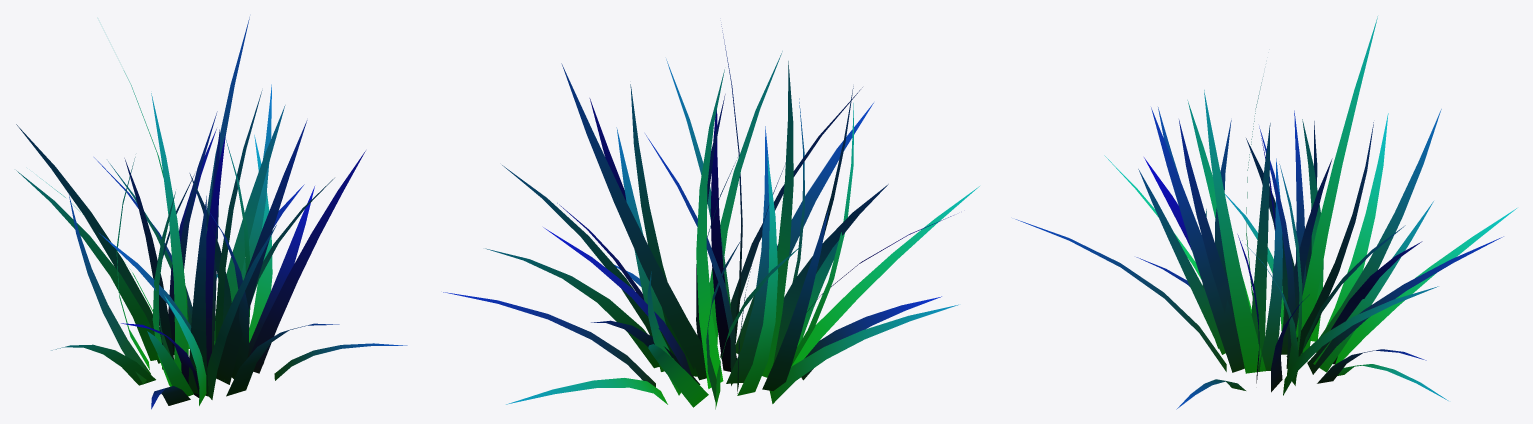
File: Grass_Clump_Tall.fbx
3 views of the same model, side by side, from view 1: azimuth 30°, elevation 25°; view 2: azimuth 150°, elevation 25°; view 3: azimuth 270°, elevation 25° (orthographic). The views are drawn at different scales.
Visible parts, largest first — view 1: _exp_Grass_Clump_Tall; view 2: _exp_Grass_Clump_Tall; view 3: _exp_Grass_Clump_Tall.
Part boxes in pixels (<box>): _exp_Grass_Clump_Tall: <box>16,17,407,409</box>; _exp_Grass_Clump_Tall: <box>443,24,979,409</box>; _exp_Grass_Clump_Tall: <box>1015,16,1516,409</box>.
Bounding box in the file's own units: 85.5 × 75.38 × 106.
